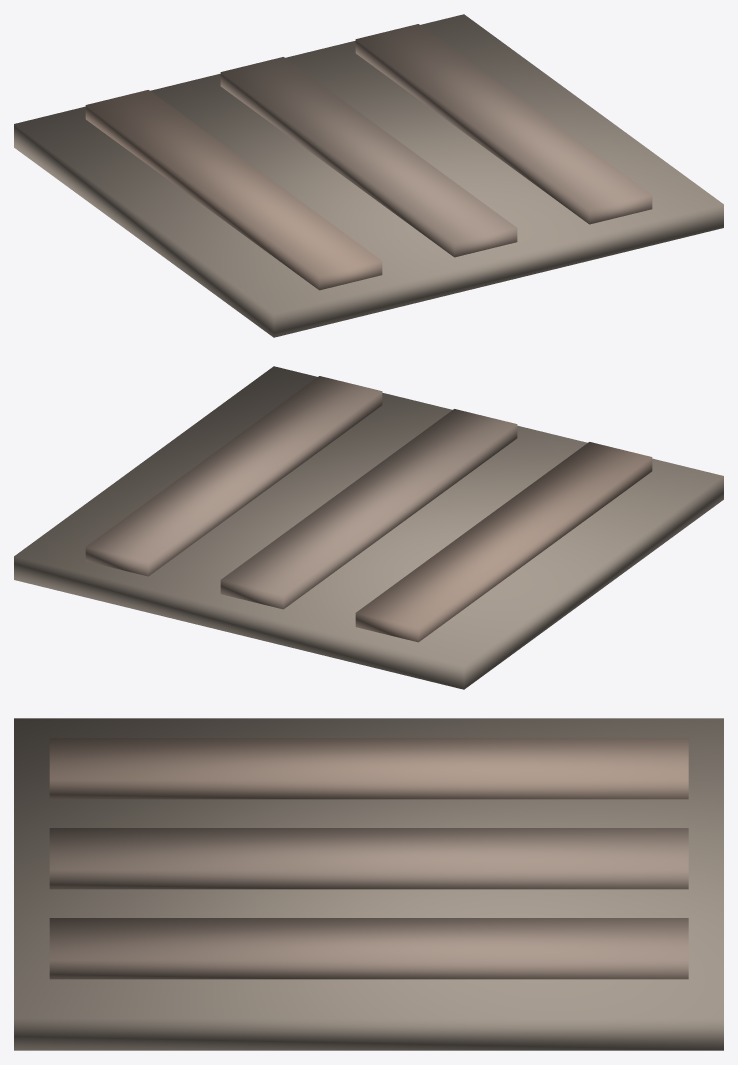
Rendered from plant_tilled_soil_autumn.glb.
3 views of the same model, one above another, from view 1: azimuth 30°, elevation 25°; view 2: azimuth 150°, elevation 25°; view 3: azimuth 270°, elevation 25° (orthographic). The views are drawn at different scales.
Visible parts, largest first — view 1: soil_base, ridge1, ridge0, ridge2; view 2: soil_base, ridge1, ridge0, ridge2; view 3: soil_base, ridge0, ridge1, ridge2.
Boxes of the visible parts, x1=… form: soil_base: x1=14, y1=14, x2=723, y2=337; ridge1: x1=220, y1=57, x2=517, y2=257; ridge0: x1=85, y1=90, x2=382, y2=290; ridge2: x1=355, y1=24, x2=652, y2=224; soil_base: x1=14, y1=366, x2=723, y2=689; ridge1: x1=220, y1=409, x2=517, y2=609; ridge0: x1=355, y1=442, x2=652, y2=642; ridge2: x1=85, y1=376, x2=382, y2=576; soil_base: x1=14, y1=718, x2=723, y2=1050; ridge0: x1=49, y1=738, x2=688, y2=799; ridge1: x1=49, y1=828, x2=688, y2=889; ridge2: x1=49, y1=918, x2=688, y2=979.
Bounding box in the file's own units: 1 × 0.08 × 1.
